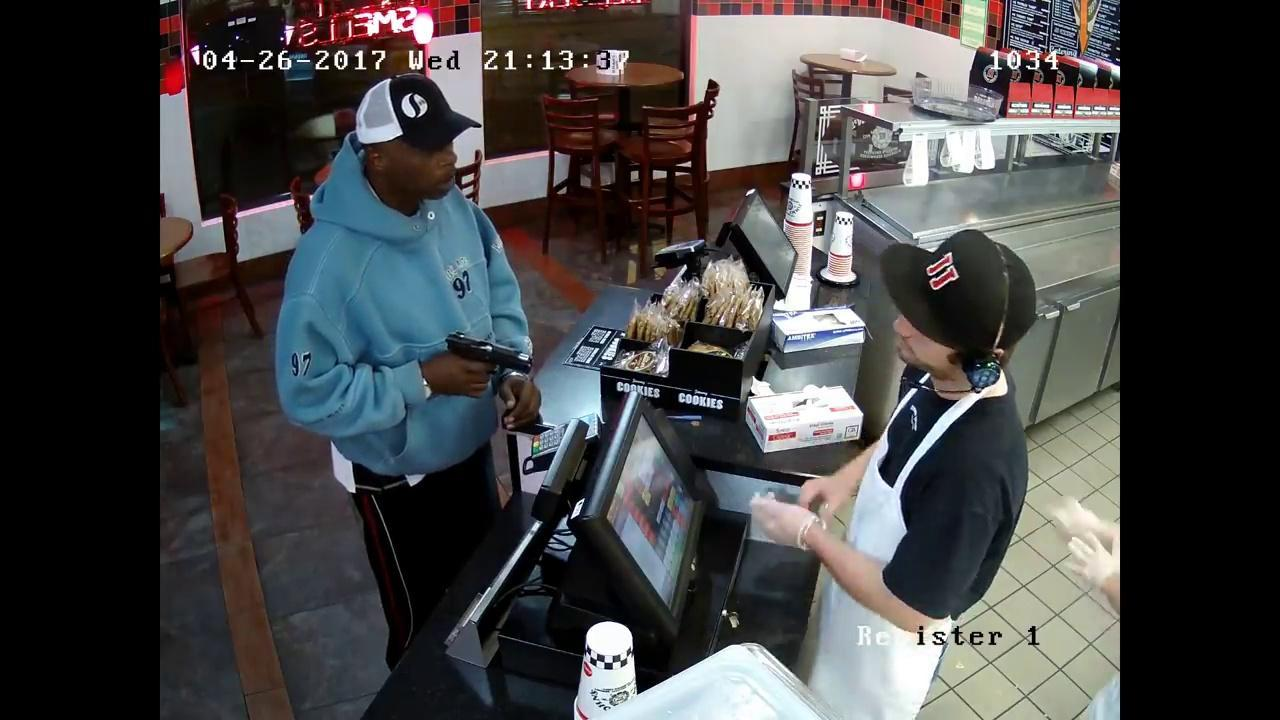Guns: (415, 316, 554, 400)
